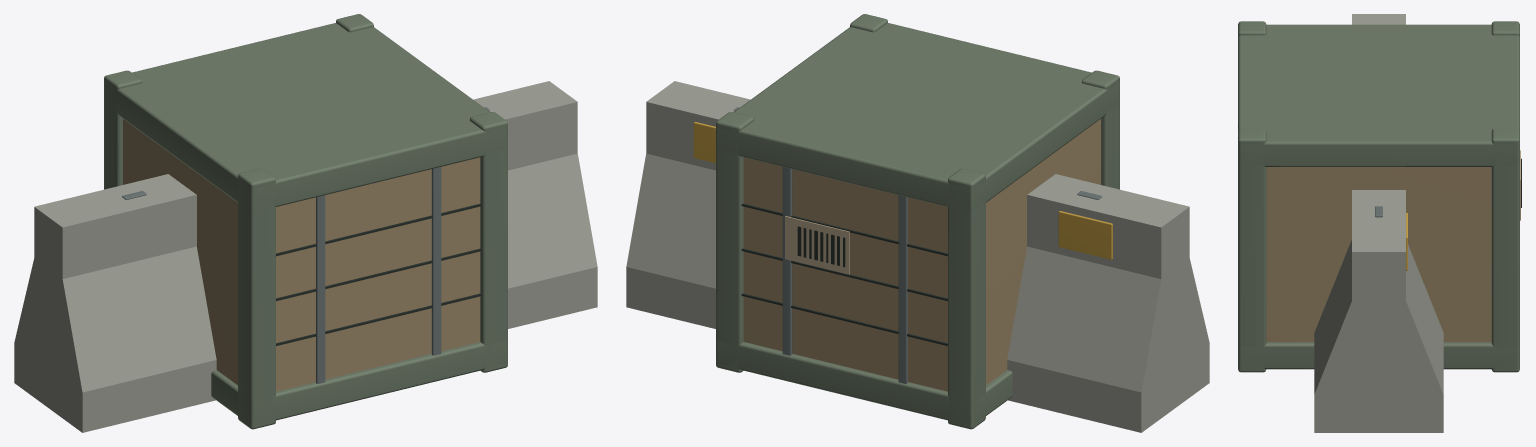
Rendered from dustline-kit.glb.
The picture shows the model from 3 angles, left to right: view 1: azimuth 30°, elevation 25°; view 2: azimuth 150°, elevation 25°; view 3: azimuth 270°, elevation 25°; orthographic projection. The views are drawn at different scales.
Parts seen in each view (by area): view 1: crate_mesh, barrier_mesh; view 2: crate_mesh, barrier_mesh; view 3: crate_mesh, barrier_mesh.
Part boxes in pixels (<box>): crate_mesh: <box>104,14,507,429</box>; barrier_mesh: <box>14,81,597,432</box>; crate_mesh: <box>716,14,1119,429</box>; barrier_mesh: <box>626,81,1209,432</box>; crate_mesh: <box>1238,21,1521,372</box>; barrier_mesh: <box>1314,14,1443,432</box>.
Size of the model in its own units: 2.4 by 1.22 by 1.21.
